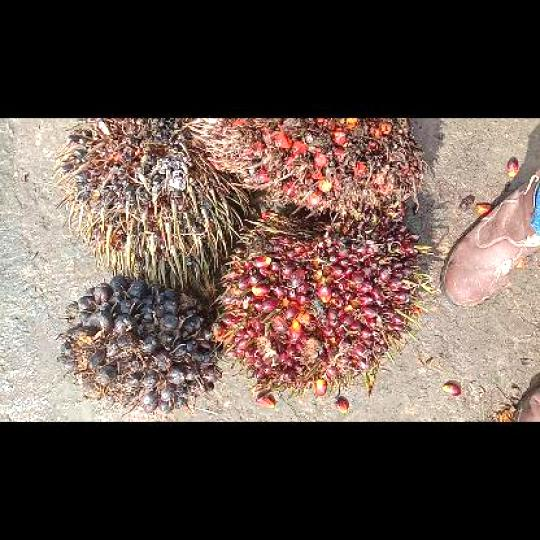masak: (211, 210, 422, 390)
terlalu masak: (189, 118, 421, 222)
